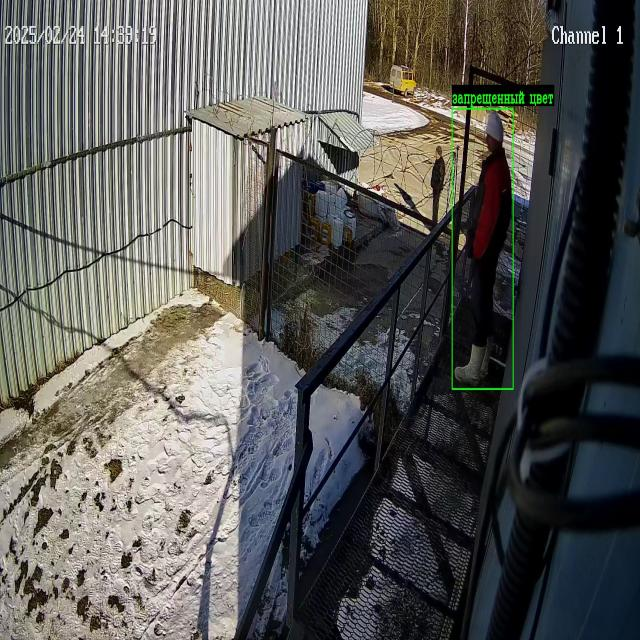Person: (430, 145, 445, 225)
Red uniform: (453, 111, 512, 386)
